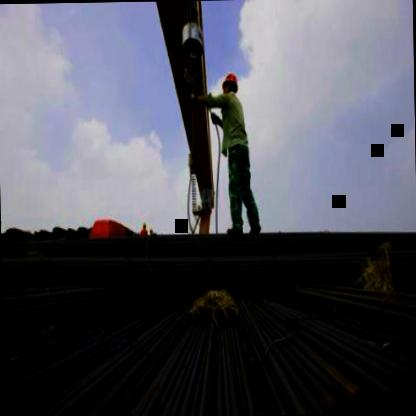helmet: (216, 69, 240, 104)
